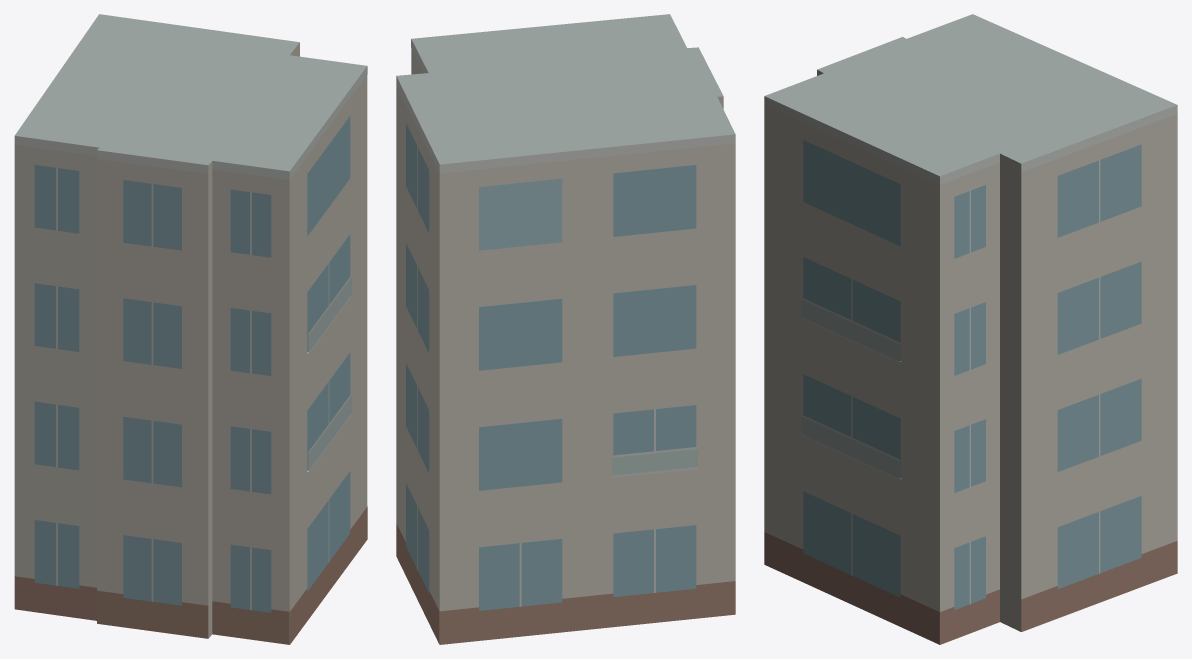
The model's file is survey-upis-32892335.glb.
3 renders of one model, left to right at view 1: azimuth 30°, elevation 25°; view 2: azimuth 150°, elevation 25°; view 3: azimuth 270°, elevation 25°, orthographic. The views are drawn at different scales.
Parts seen in each view (by area): view 1: survey-upis-32892335.tmp; view 2: survey-upis-32892335.tmp; view 3: survey-upis-32892335.tmp.
Part boxes in pixels (x1,y1,x2,y2): survey-upis-32892335.tmp: (14, 14, 367, 644); survey-upis-32892335.tmp: (396, 14, 735, 644); survey-upis-32892335.tmp: (764, 14, 1177, 644).
Size of the model in its own units: 9.78 by 13.15 by 10.52.
